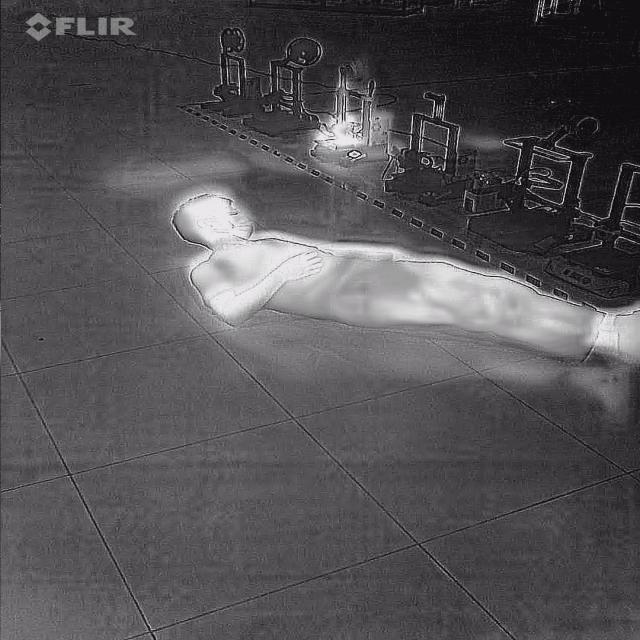Victim: (161, 188, 640, 370)
